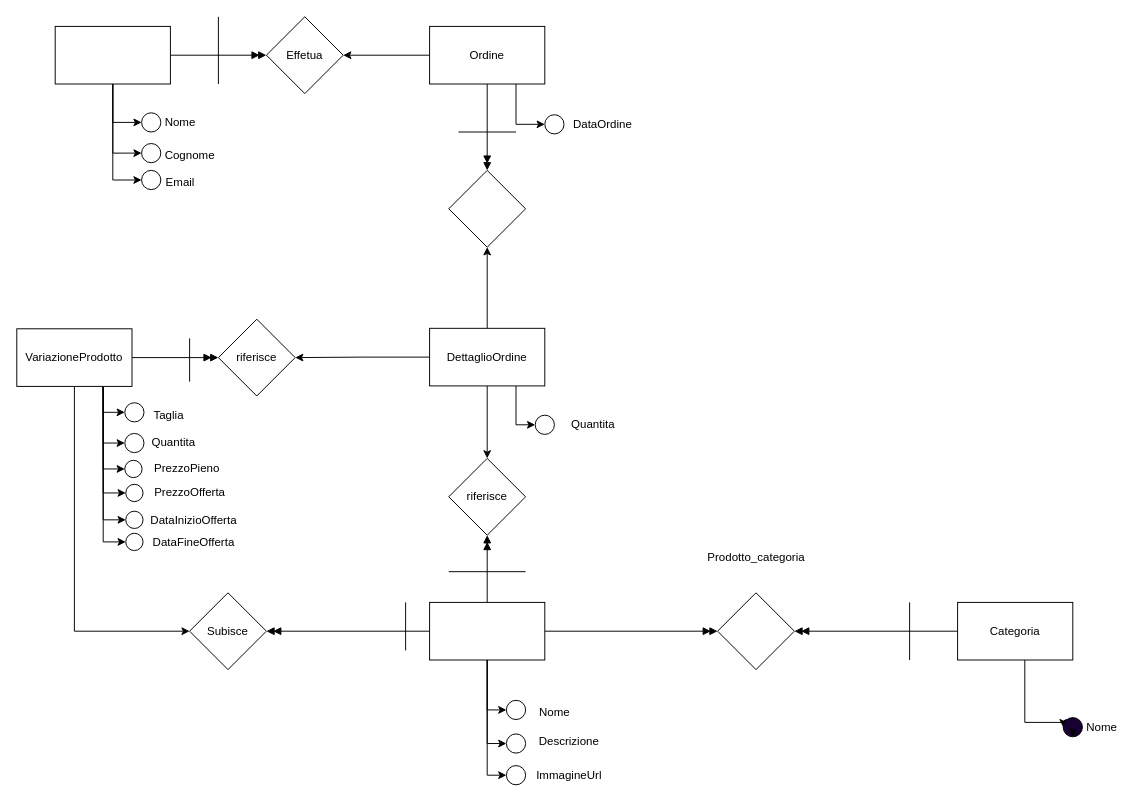
Some shapes in this 1147 by 806 pixel diagram are drawn without their labels. The shapes that lost their labels are listed below. From the top down, each one's centre as x and y in pixels, then its label:
At [112,54]: "Utente".
At [487,208]: "descrive".
At [487,630]: "Prodotto".
At [755,631]: "Appartiene".
